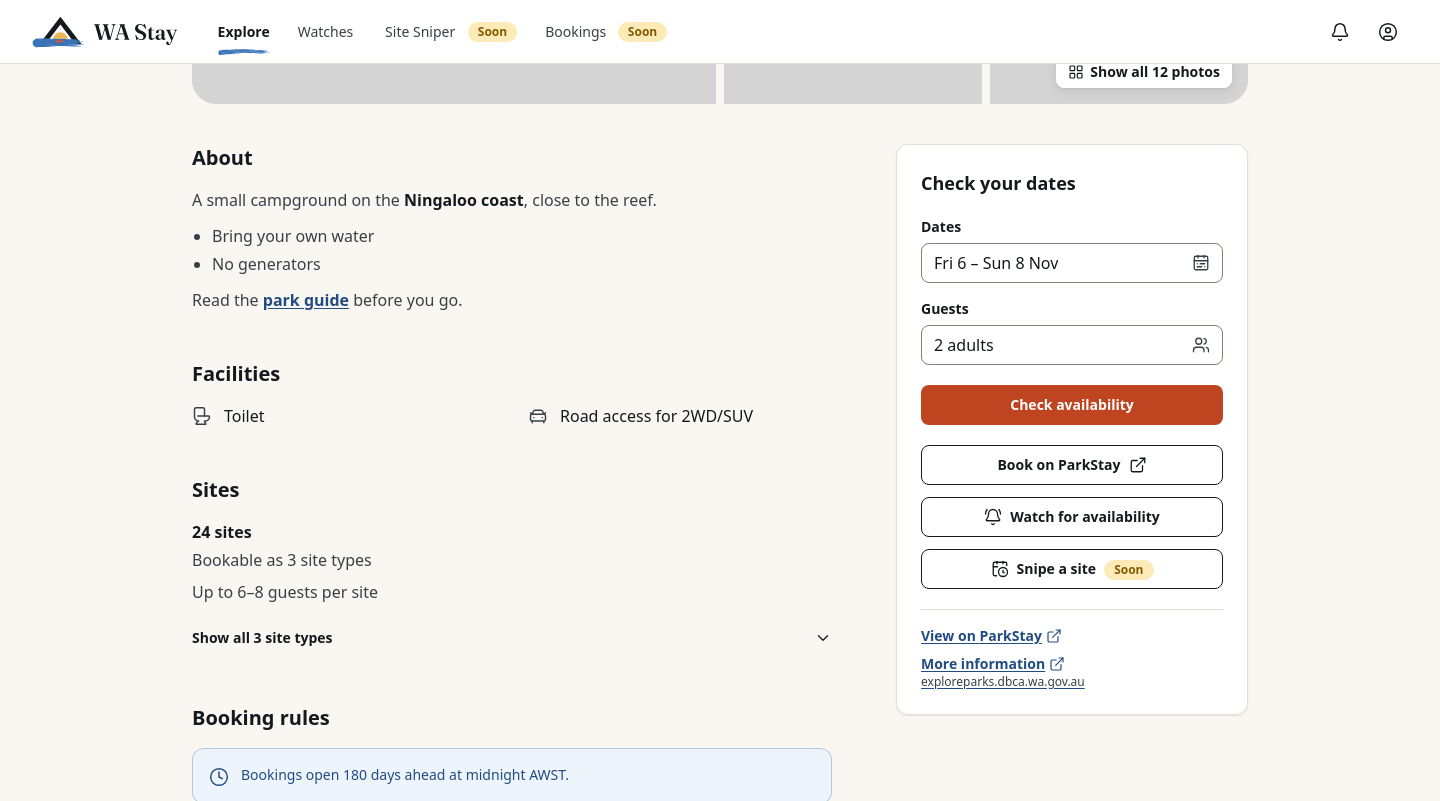
Test case: Place detail page › shows each site's description and limits under its name, joined by unit id
The width and height of the screenshot is (1440, 801).
(page scrolled)
Check: the heading "About" is shown, box [192,144,253,171]
Click the button "Check availability" at (1072, 405), box [921,385,1223,425]
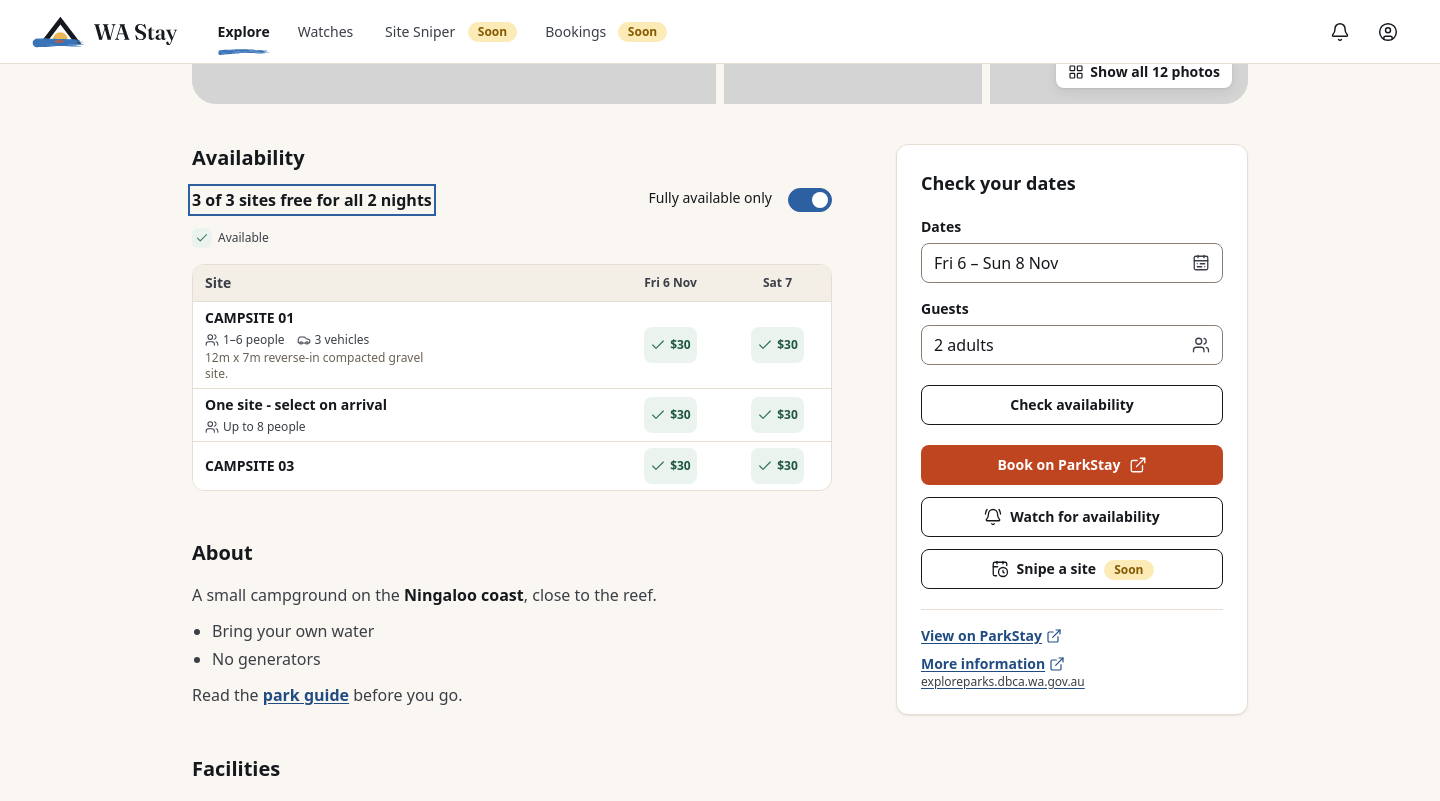
Check: the text "1–6 people" is shown, box [205,332,284,348]
Check: the text "3 vehicles" is shown, box [296,332,369,348]
Check: the text "12m x 7m reverse-in compacted gravel site." is shown, box [205,350,445,382]
